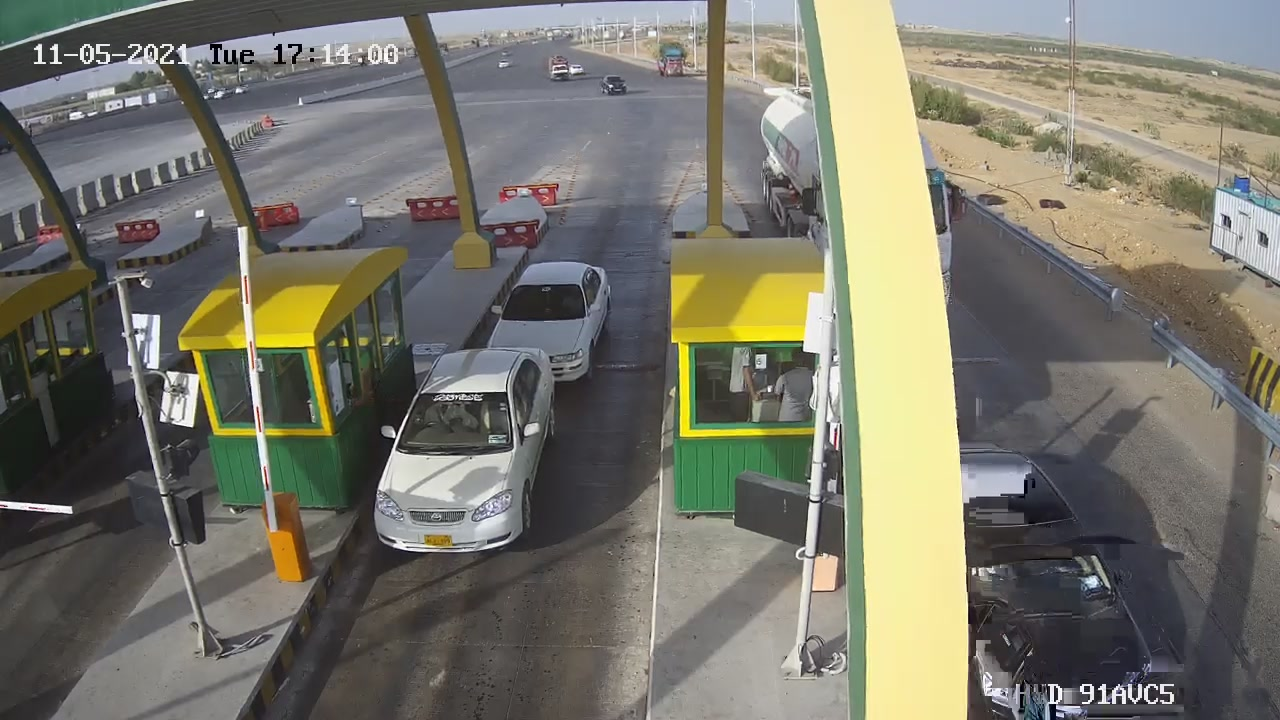F1: (356, 336, 568, 579), (468, 249, 630, 399)
